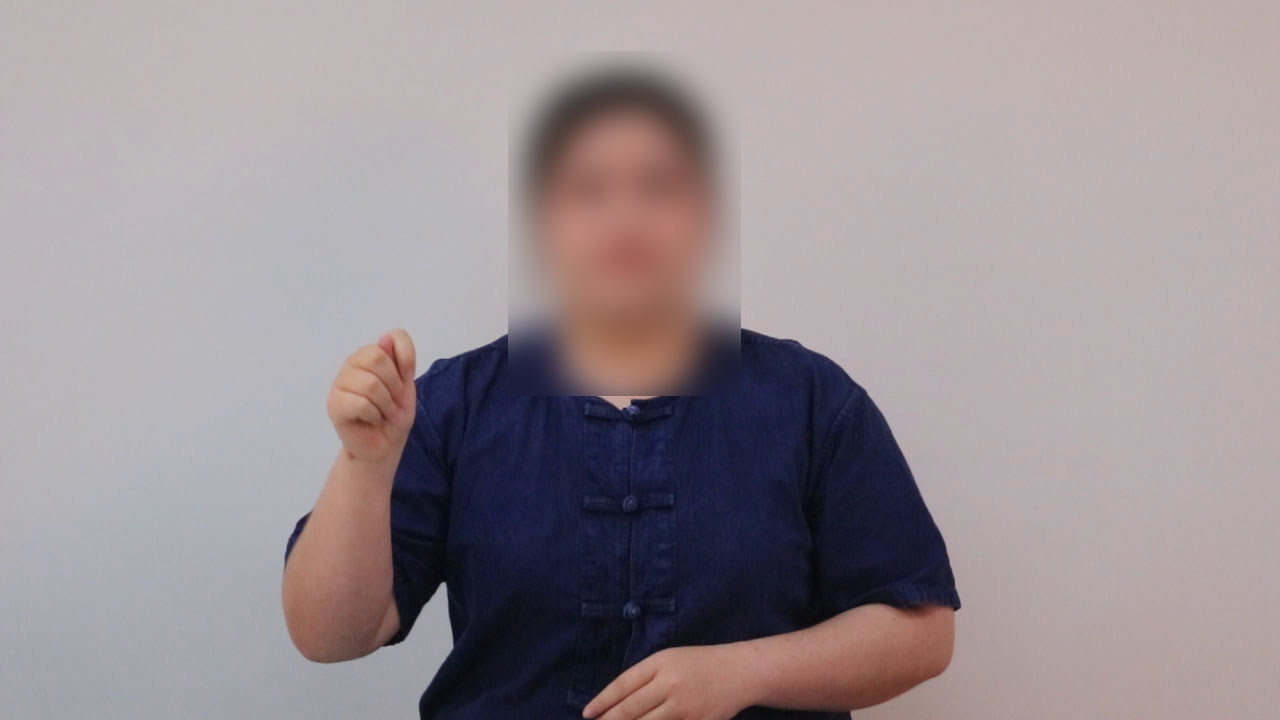tor: (308, 321, 446, 482)
